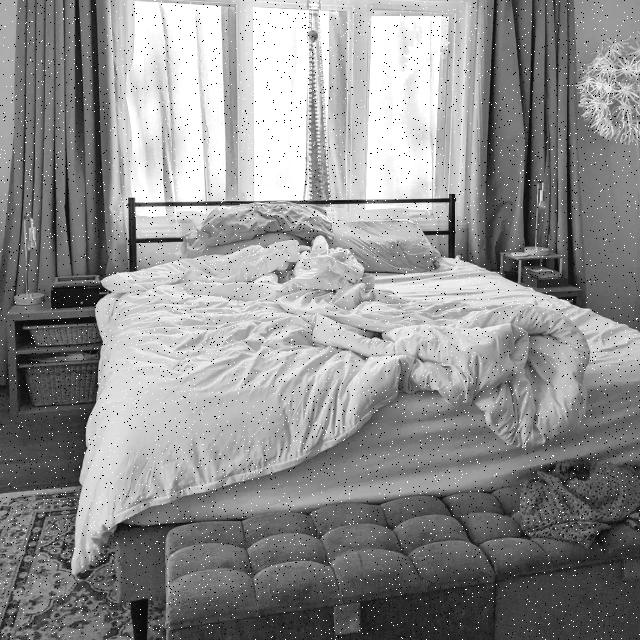bed: (75, 191, 640, 574)
